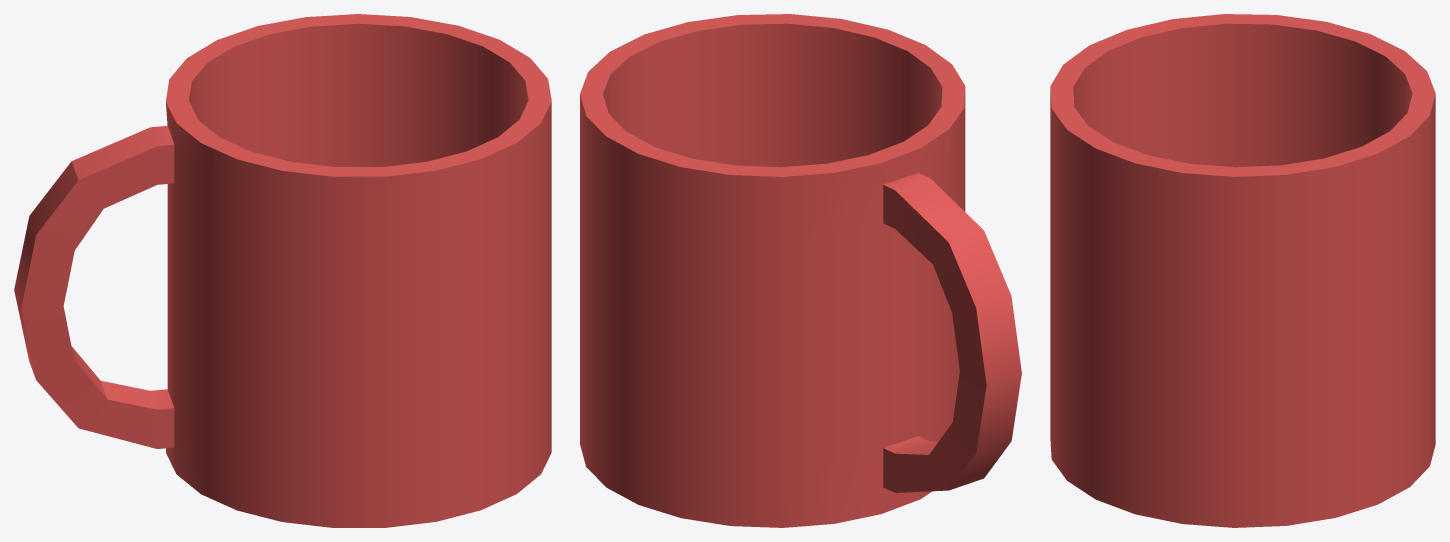
Rendered from Cup.fbx.
3 views of the same model, side by side, from view 1: azimuth 30°, elevation 25°; view 2: azimuth 150°, elevation 25°; view 3: azimuth 270°, elevation 25° (orthographic).
Visible parts, largest first — view 1: Cup; view 2: Cup; view 3: Cup.
Boxes of the visible parts, x1,y1,x2,y2 form: Cup: (14,14,551,527); Cup: (580,14,1021,527); Cup: (1050,14,1435,527).
Size of the model in its own units: 16.6 by 12.1 by 12.04.
